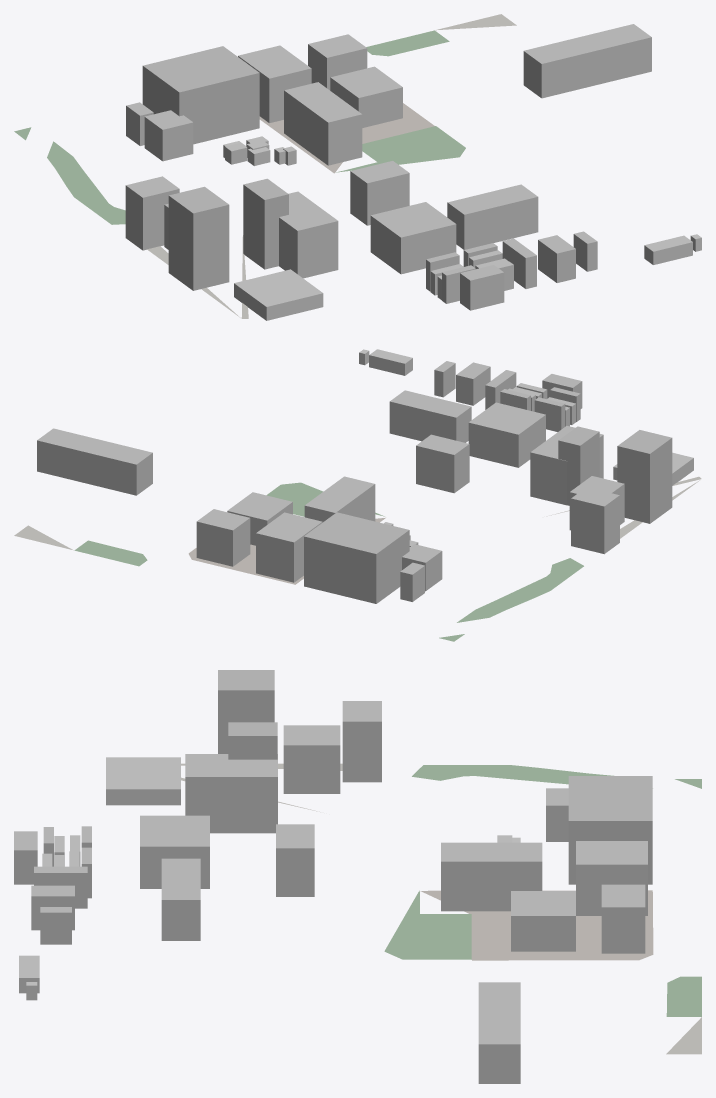
File: 126_78_mid.glb
3 views of the same model, one above another, from view 1: azimuth 30°, elevation 25°; view 2: azimuth 150°, elevation 25°; view 3: azimuth 270°, elevation 25° (orthographic). The views are drawn at different scales.
Bounding box in the file's own units: 560 × 75.94 × 507.
